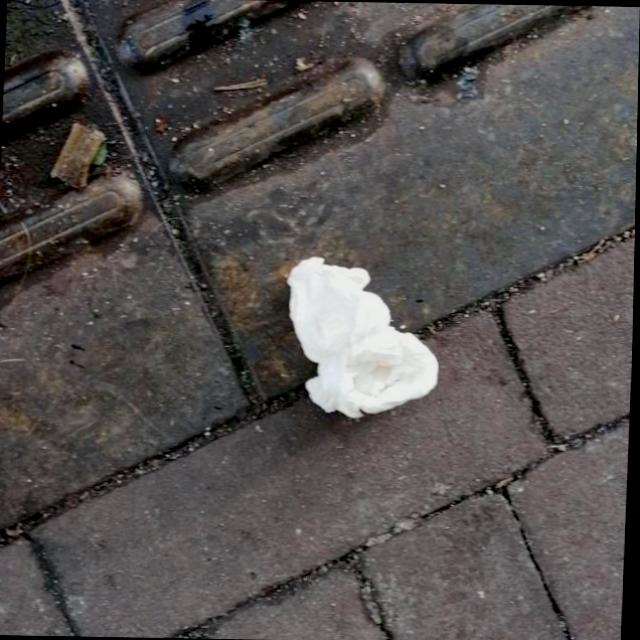Paper: (279, 252, 444, 420)
